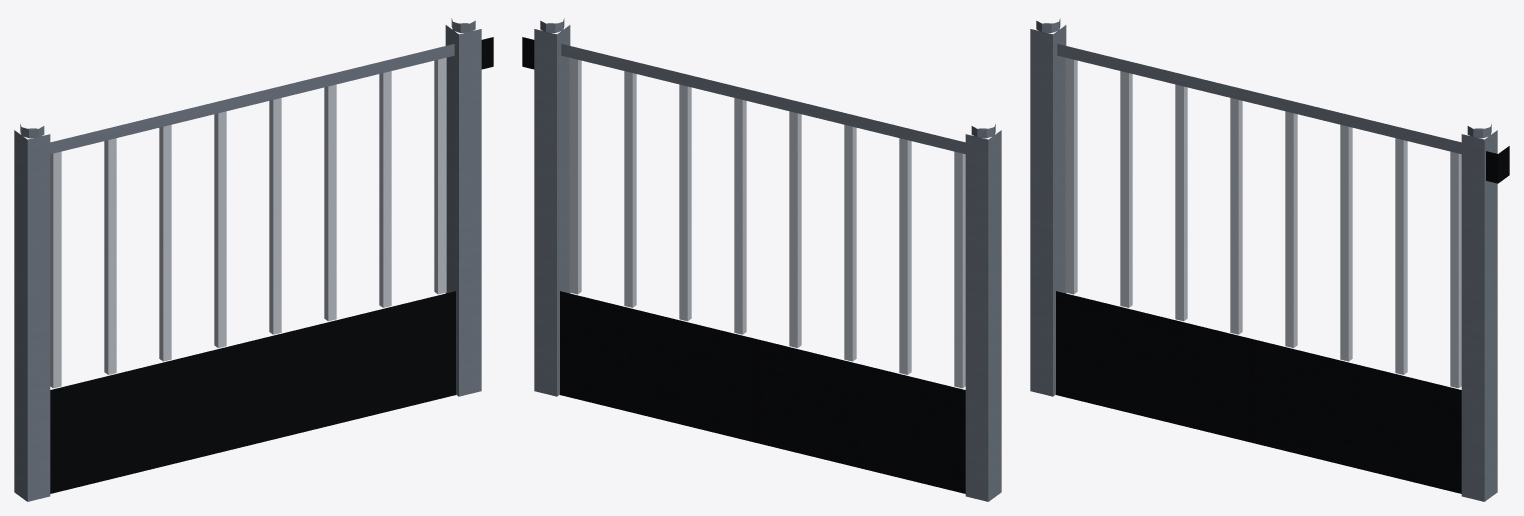
The model's file is tt_play_fence_gate.glb.
3 views of the same model, side by side, from view 1: azimuth 30°, elevation 25°; view 2: azimuth 150°, elevation 25°; view 3: azimuth 330°, elevation 25° (orthographic).
Visible parts, largest first — view 1: GateKick, Post, GatePicket, GateRail; view 2: GateKick, Post, GatePicket, GateRail; view 3: GateKick, Post, GatePicket, GateRail, Latch.
Boxes of the visible parts, x1,y1,x2,y2 form: GateKick: (50,291,455,493); Post: (14,25,481,501); GatePicket: (50,57,446,388); GateRail: (50,44,454,154); GateKick: (560,291,965,493); Post: (534,25,1001,501); GatePicket: (569,57,965,388); GateRail: (561,44,965,154); GateKick: (1056,291,1461,493); Post: (1030,25,1497,501); GatePicket: (1065,57,1461,388); GateRail: (1057,44,1461,154); Latch: (1486,146,1509,183).
Size of what is drawn, in the model's own units: 1.64 by 1.25 by 0.08.
Materials: 3 (3 with a texture image).
